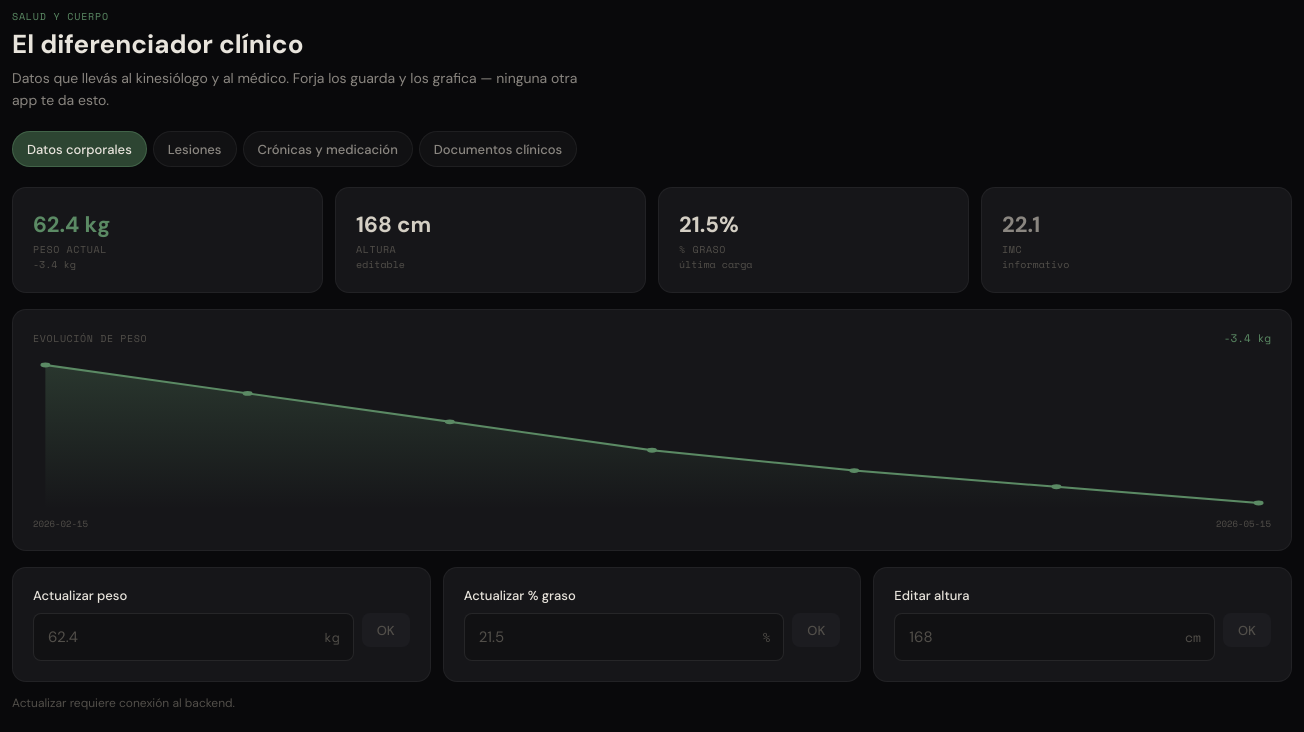
Test: Health › manages clinical data and keeps save disabled in demo
The width and height of the screenshot is (1304, 732).
Click the tab "Crónicas y medicación": (328, 149) x1=242 y1=131 x2=413 y2=167
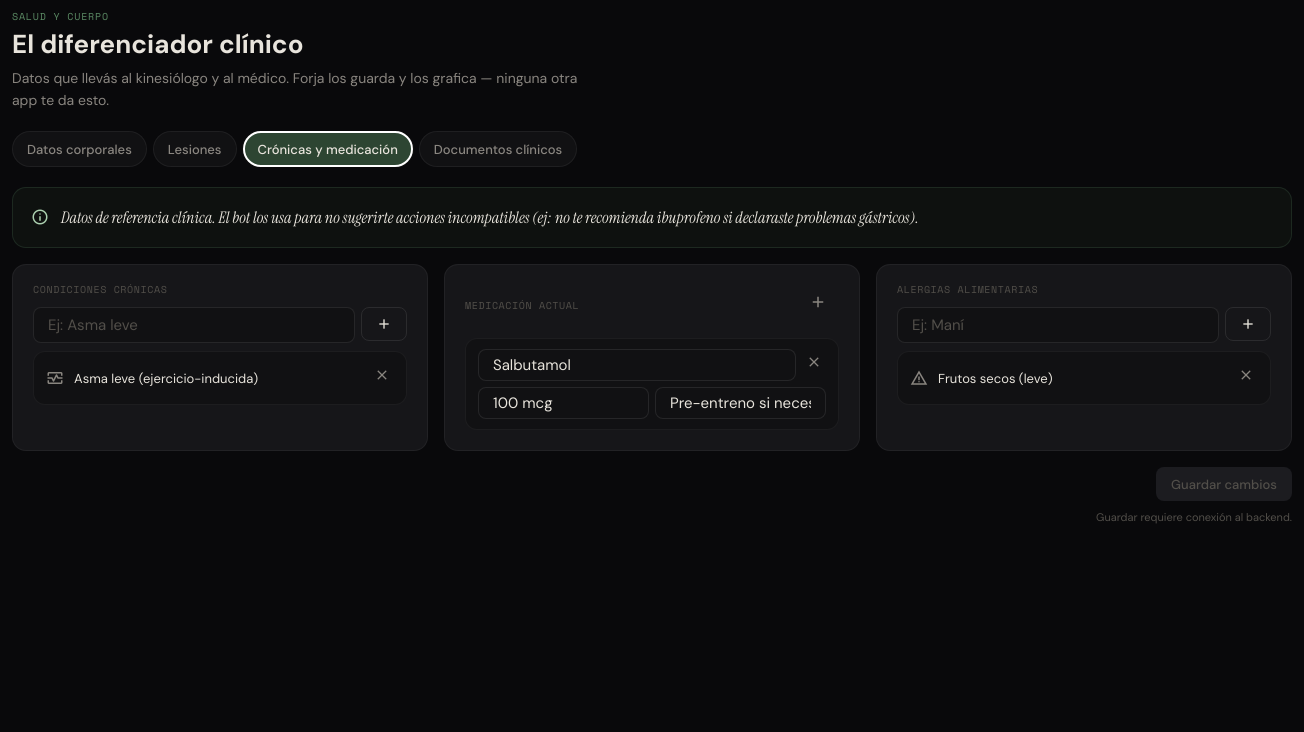
Result: the text "Asma leve (ejercicio-inducida)" is shown at x1=74 y1=370 x2=258 y2=387
In the field with placeholder "Ej: Asma leve": (194, 326) x1=33 y1=308 x2=355 y2=344, type "Hipertensión"
Then press Enter
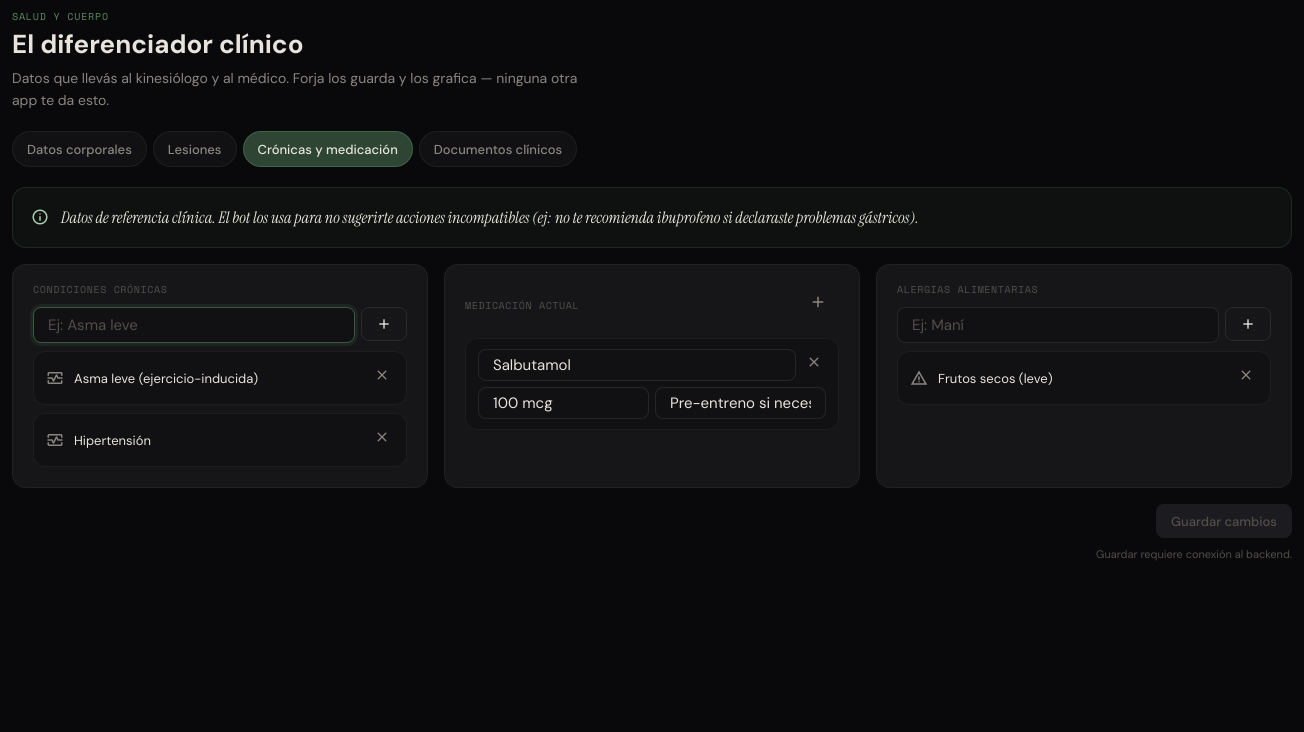
Expected: the button "Guardar cambios" is disabled, x1=1156 y1=504 x2=1292 y2=538
Result: the text "Hipertensión" is shown at x1=74 y1=432 x2=151 y2=449
